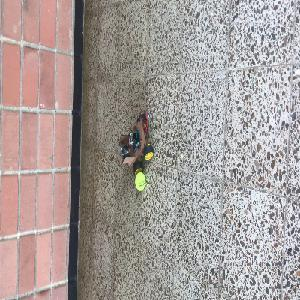Ball: (135, 172, 146, 191)
Robot: (119, 114, 153, 170)
